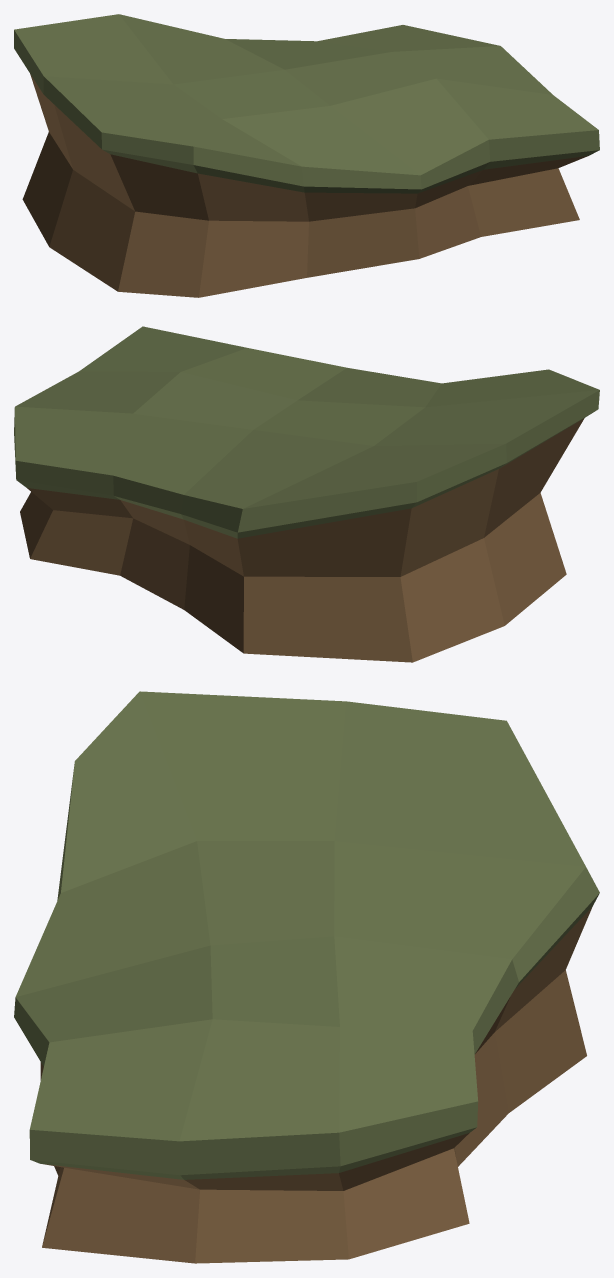
The model's file is SM_Envr_Nature_Cliff_03.fbx.
3 renders of one model, top to bottom at view 1: azimuth 30°, elevation 25°; view 2: azimuth 150°, elevation 25°; view 3: azimuth 270°, elevation 25°, orthographic. The views are drawn at different scales.
Parts seen in each view (by area): view 1: SM_Envr_Nature_Cliff_03; view 2: SM_Envr_Nature_Cliff_03; view 3: SM_Envr_Nature_Cliff_03.
Part boxes in pixels (left/top/right/bottom): SM_Envr_Nature_Cliff_03: left=14, top=14, right=599, bottom=297; SM_Envr_Nature_Cliff_03: left=14, top=326, right=599, bottom=662; SM_Envr_Nature_Cliff_03: left=14, top=691, right=599, bottom=1263.
Size of the model in its own units: 433 by 151 by 326.
